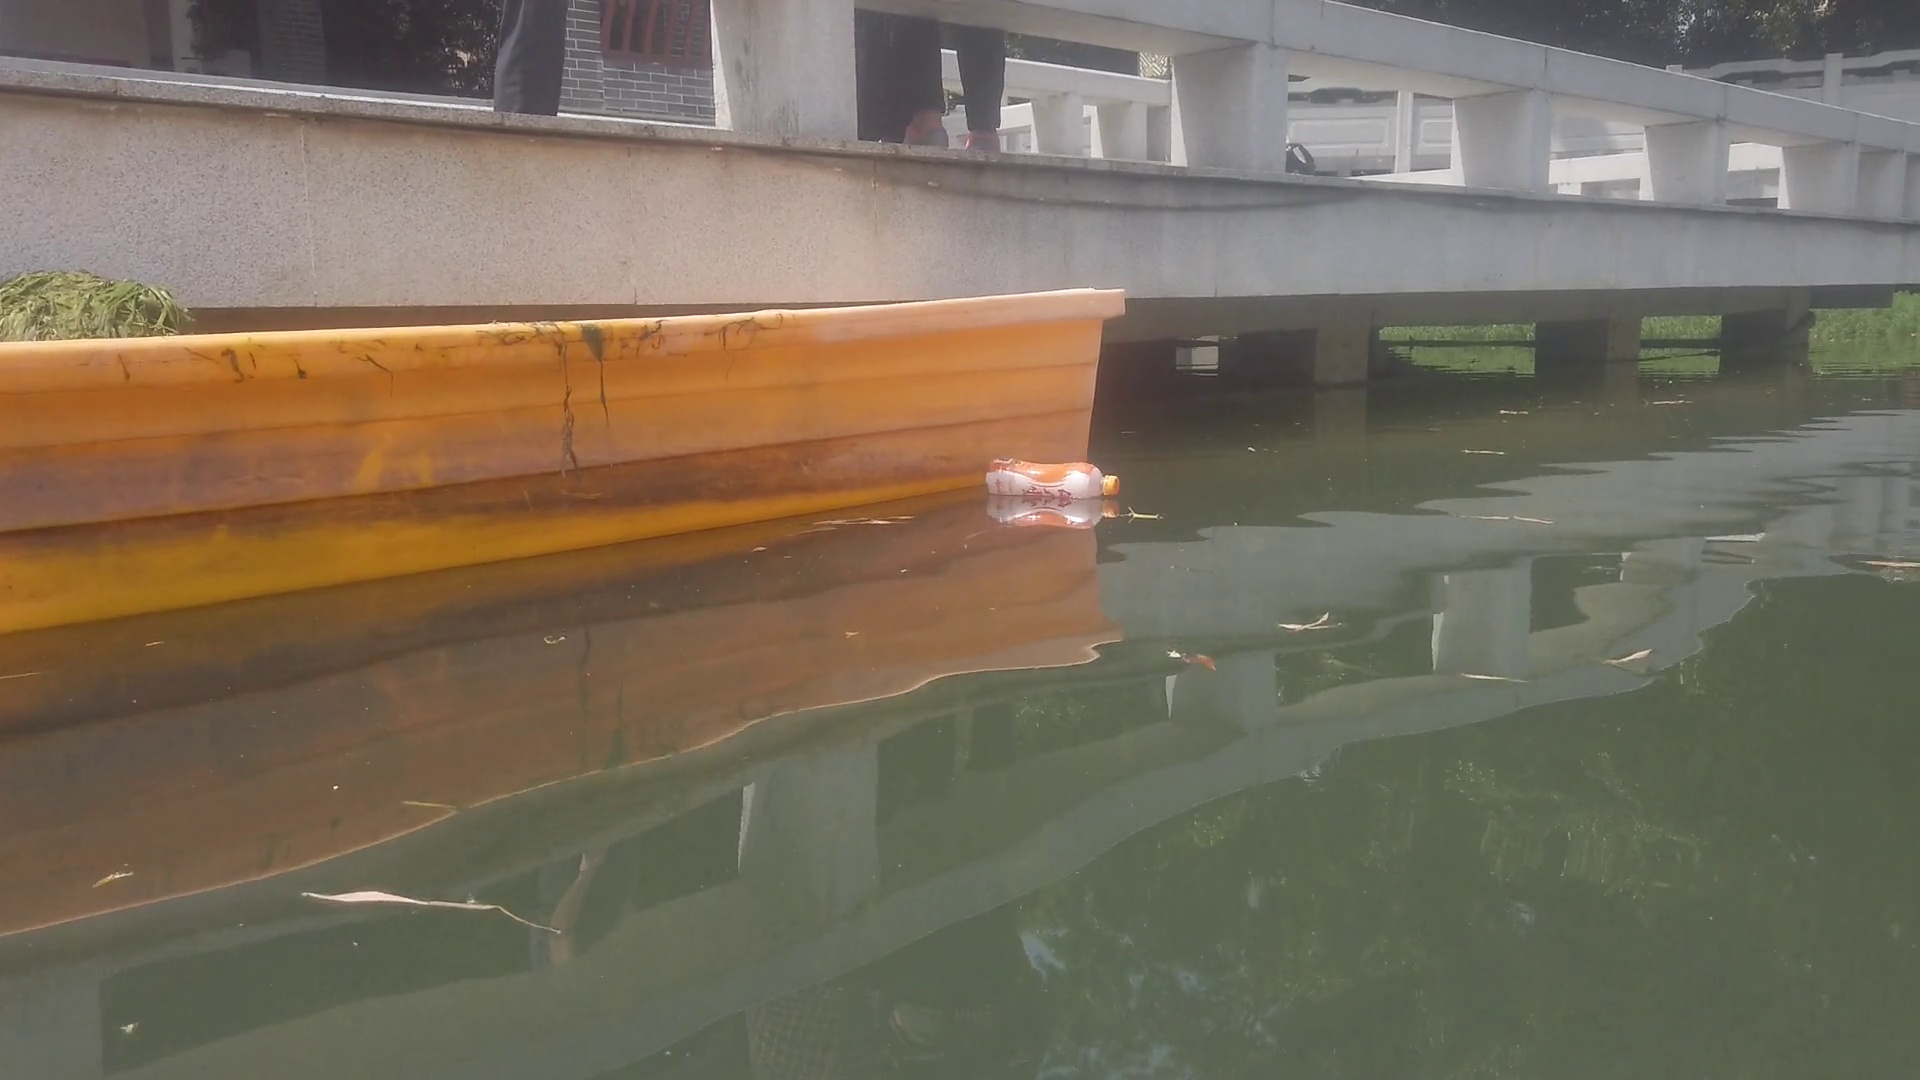bottle: (986, 456, 1118, 506)
